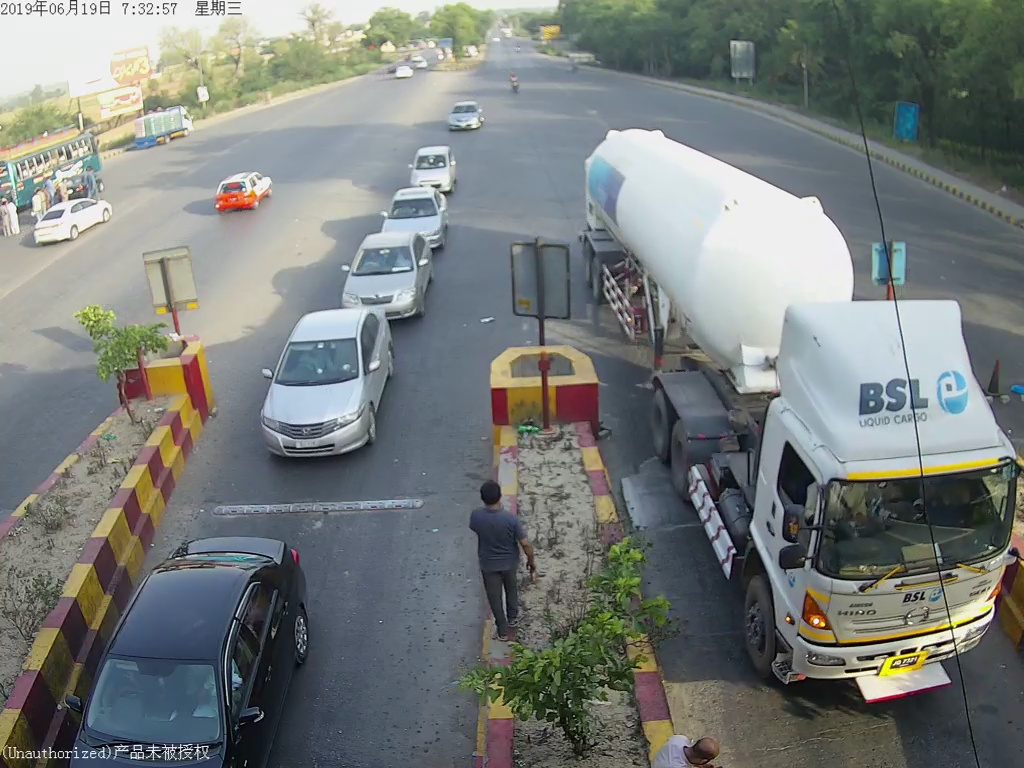Cat-1: (256, 310, 400, 463), (339, 241, 434, 313), (375, 179, 449, 235)
Cat-5: (579, 119, 1012, 730)
